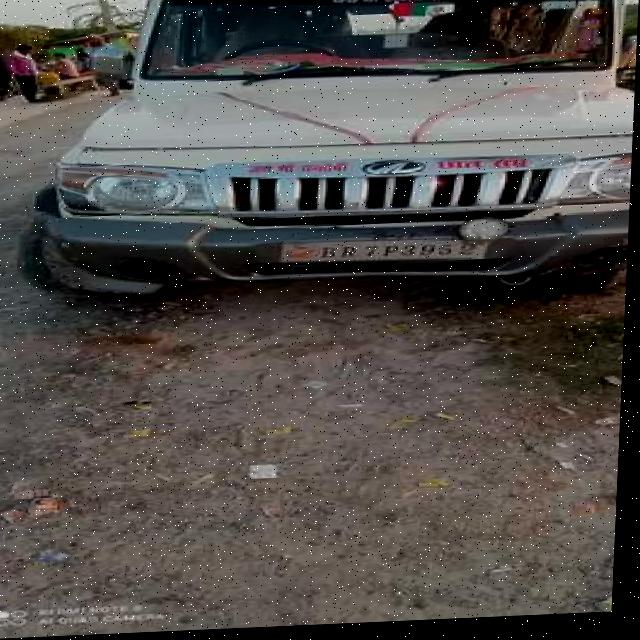plate: (276, 237, 488, 270)
